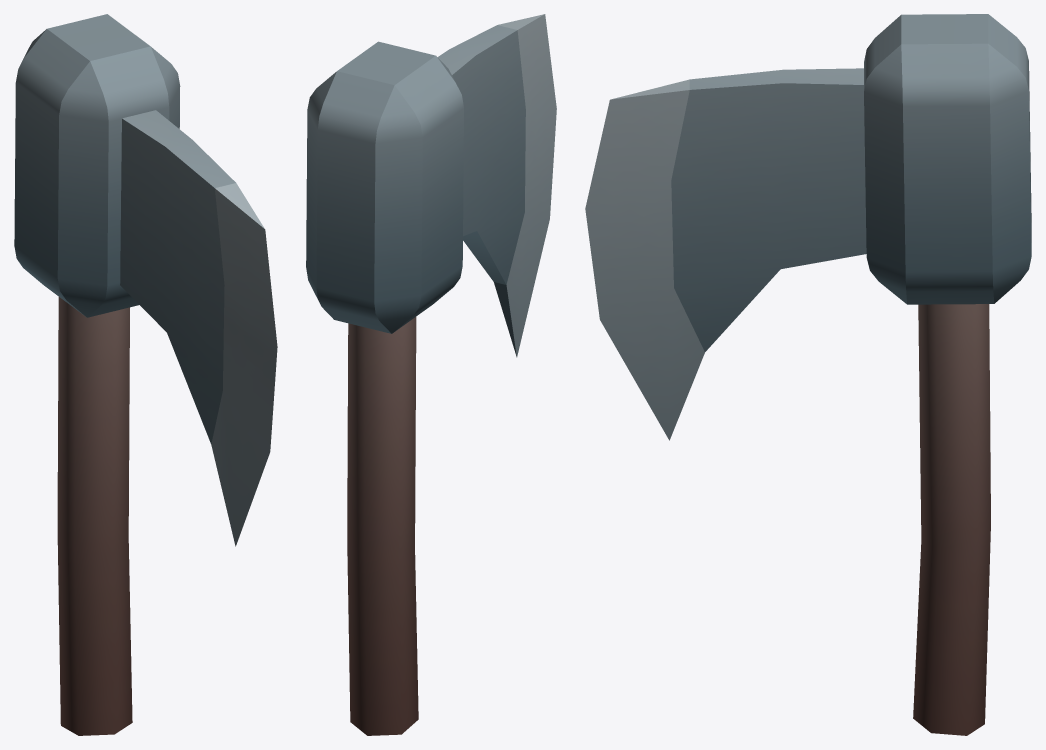
File: wp cap2a.fbx
The picture shows the model from 3 angles, left to right: view 1: azimuth 30°, elevation 25°; view 2: azimuth 150°, elevation 25°; view 3: azimuth 270°, elevation 25°; orthographic projection. The views are drawn at different scales.
Visible parts, largest first — view 1: wp_cap2a; view 2: wp_cap2a; view 3: wp_cap2a.
Boxes of the visible parts, x1,y1,x2,y2 form: wp_cap2a: (14, 14, 277, 735); wp_cap2a: (306, 14, 556, 735); wp_cap2a: (585, 14, 1031, 735).
Bounding box in the file's own units: 20.34 × 111 × 64.58.
Materials: 1 (1 with a texture image).
